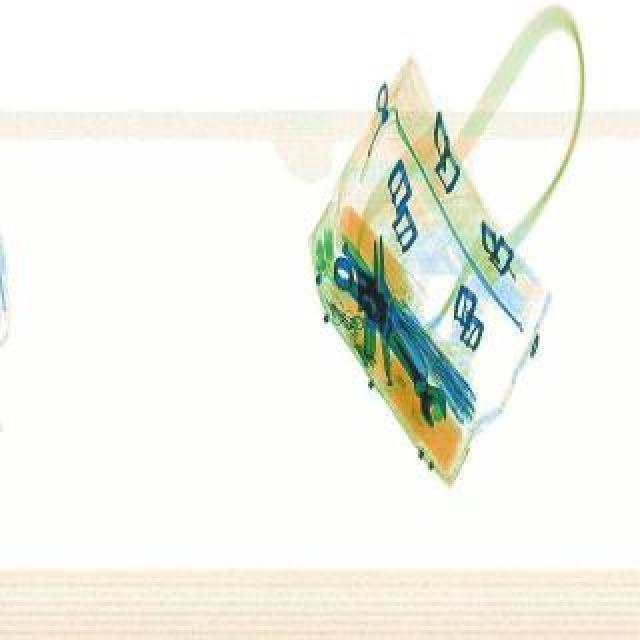knife: (334, 234, 434, 378)
scissors: (316, 250, 460, 426)
